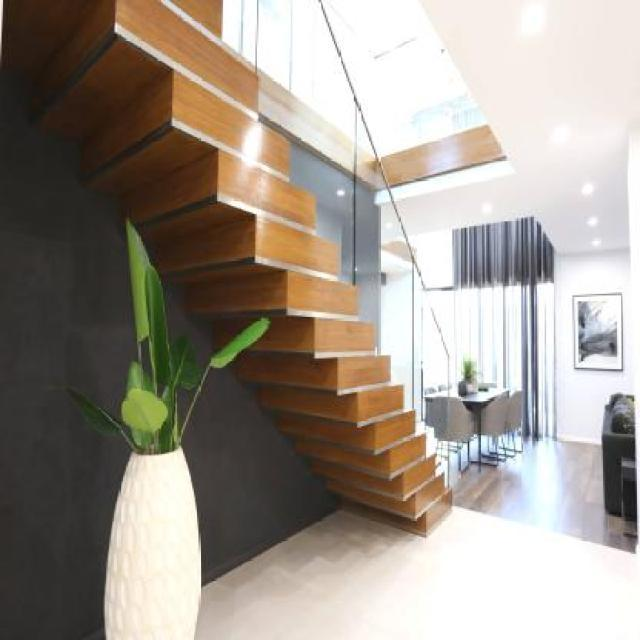stair: (118, 0, 490, 548)
